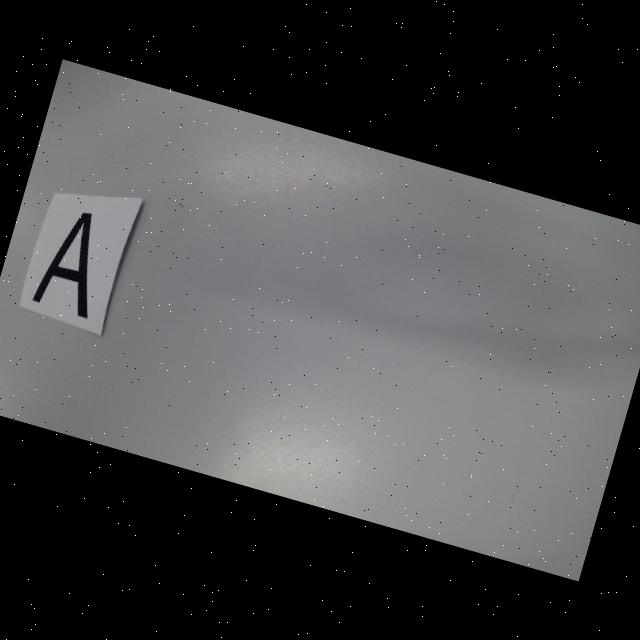FAKE: (30, 203, 116, 320)
